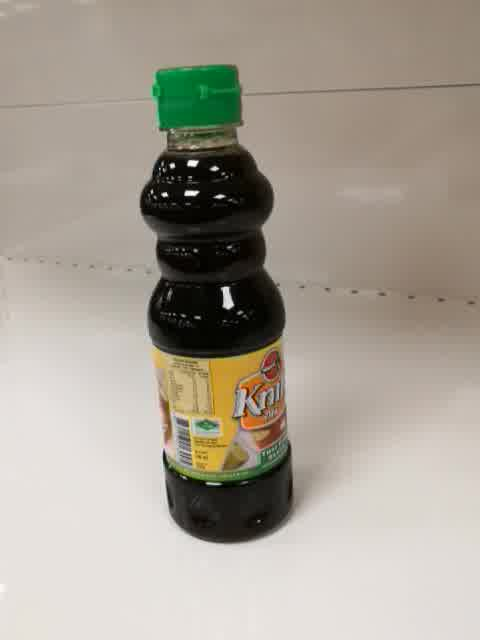cookingoil: (137, 63, 296, 544)
